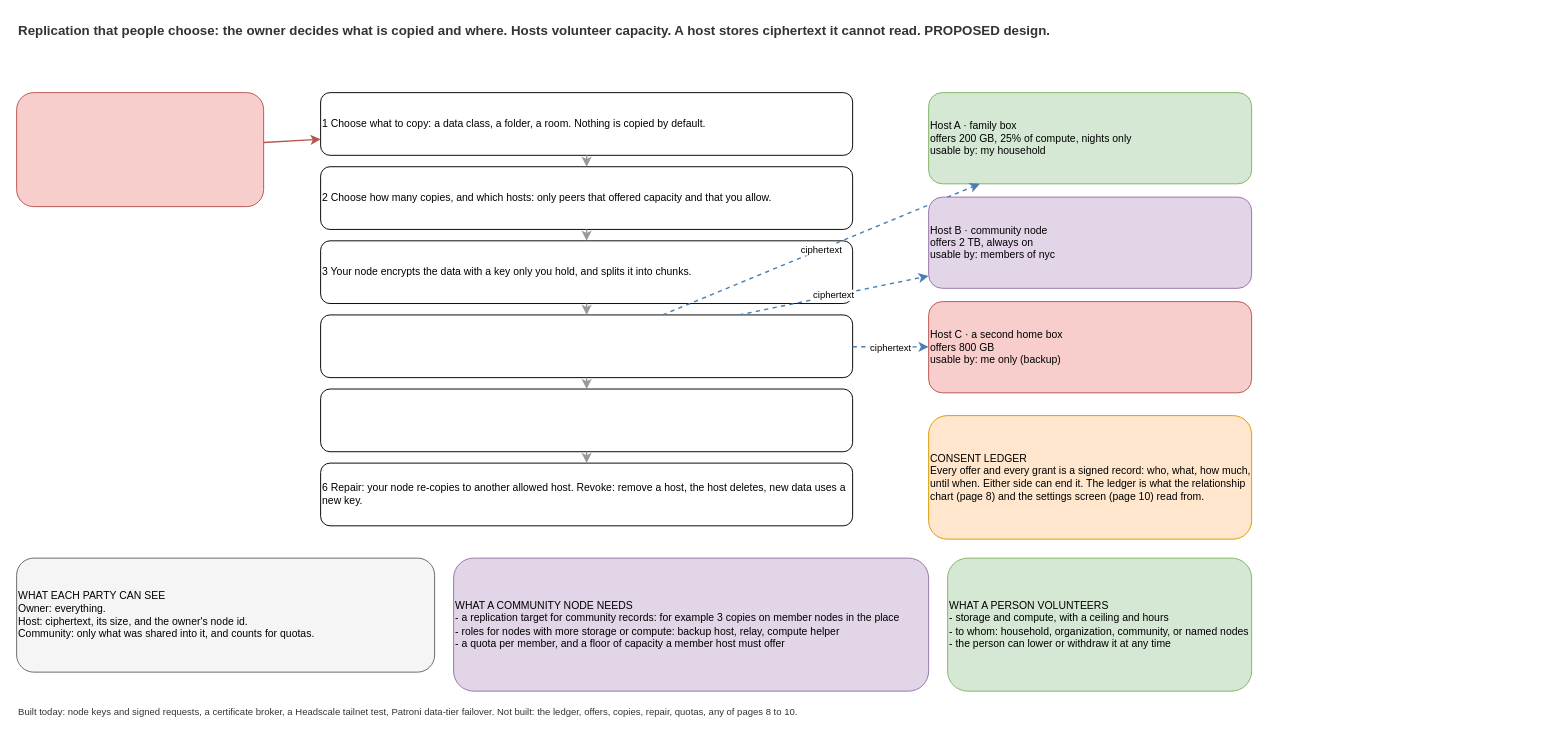
Some shapes in this 1553 by 745 pixel diagram are drawn without their labels. Here are the shapes that lost their labels. From the top down, the centre of each, then its label:
At (140,149): "OWNER NODE your data, your keys you decide what leaves".
At (586,346): "4 Send the ciphertext to the chosen hosts over signed requests.".
At (586,420): "5 Hosts prove they still hold it (a periodic check). A failing host is flagged.".
